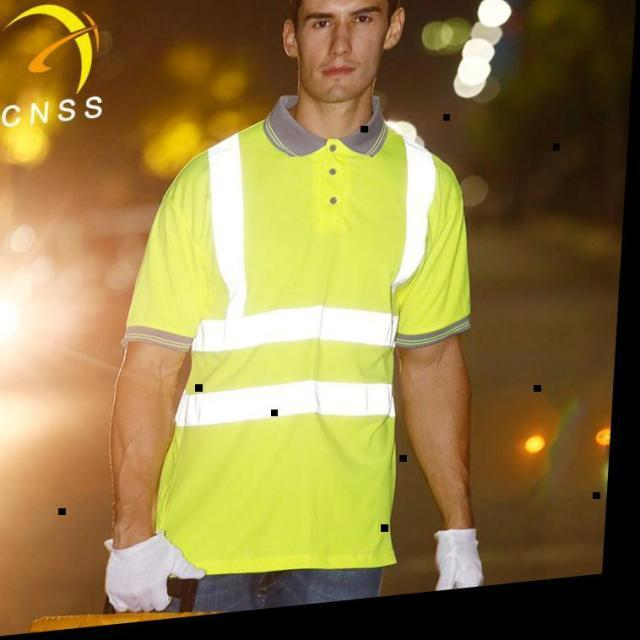safety_helmet: (121, 122, 461, 569)
